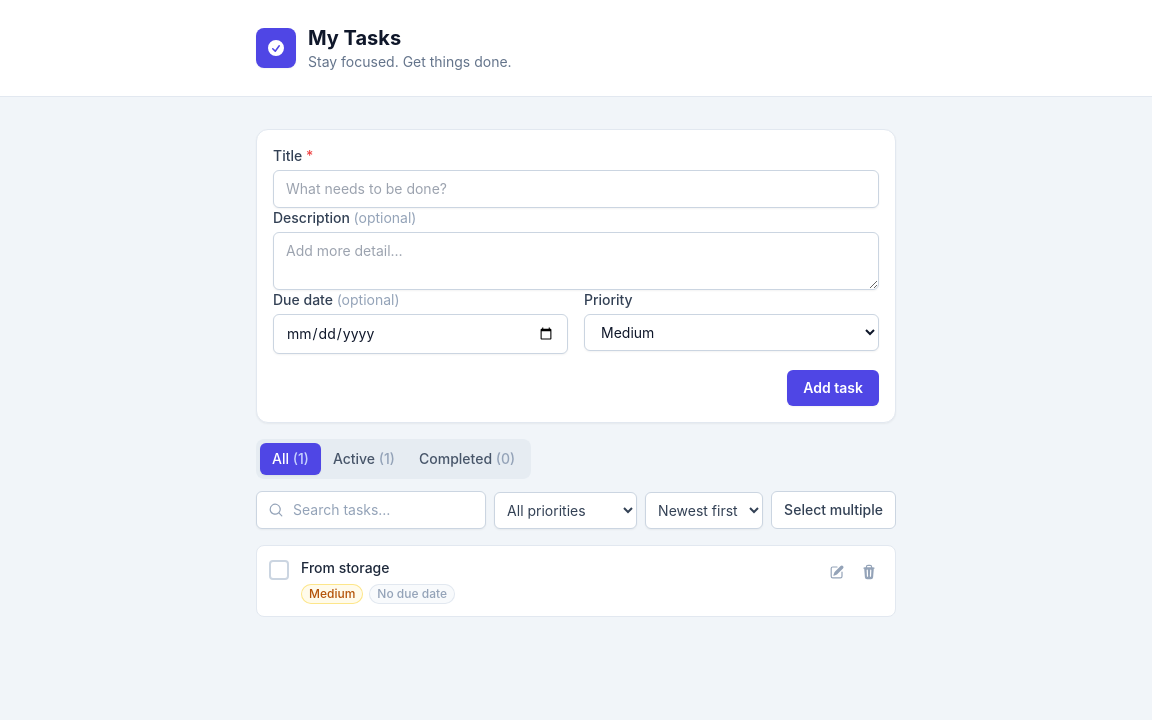
Test case: App › deletes a task only after confirming
Click the button named "Delete From storage". click: (869, 572)
box: [855,558,883,586]
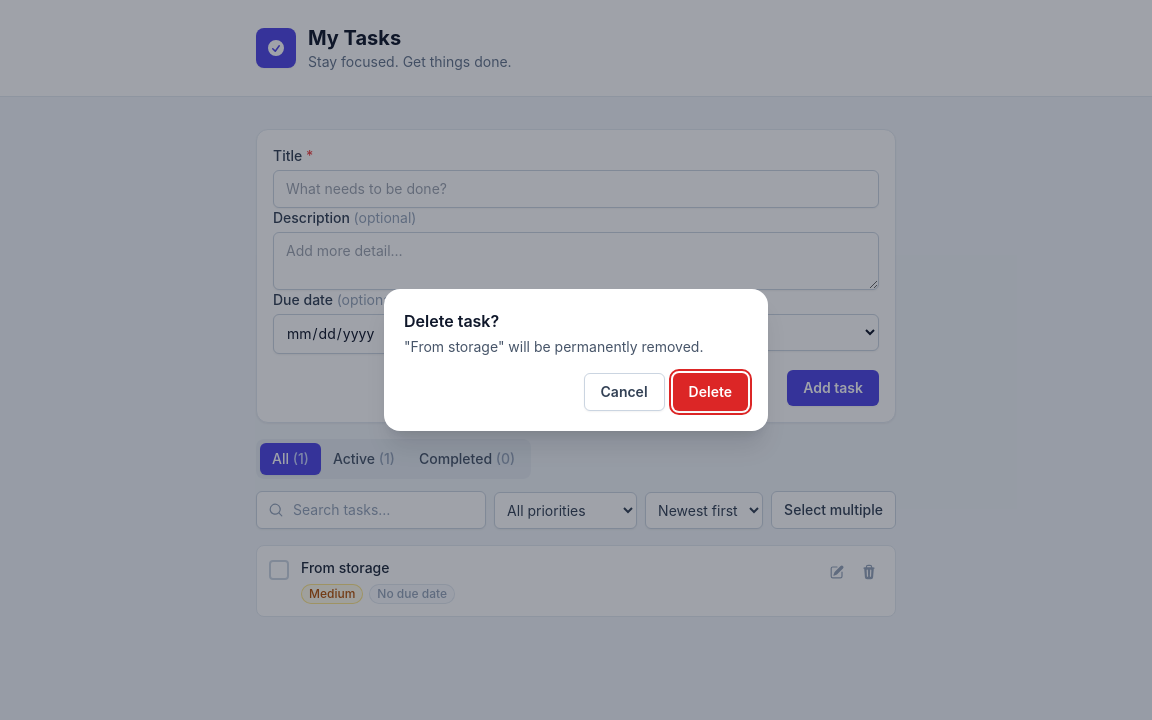
Click the button "Cancel". click: (624, 392)
box: [584,373,664,411]
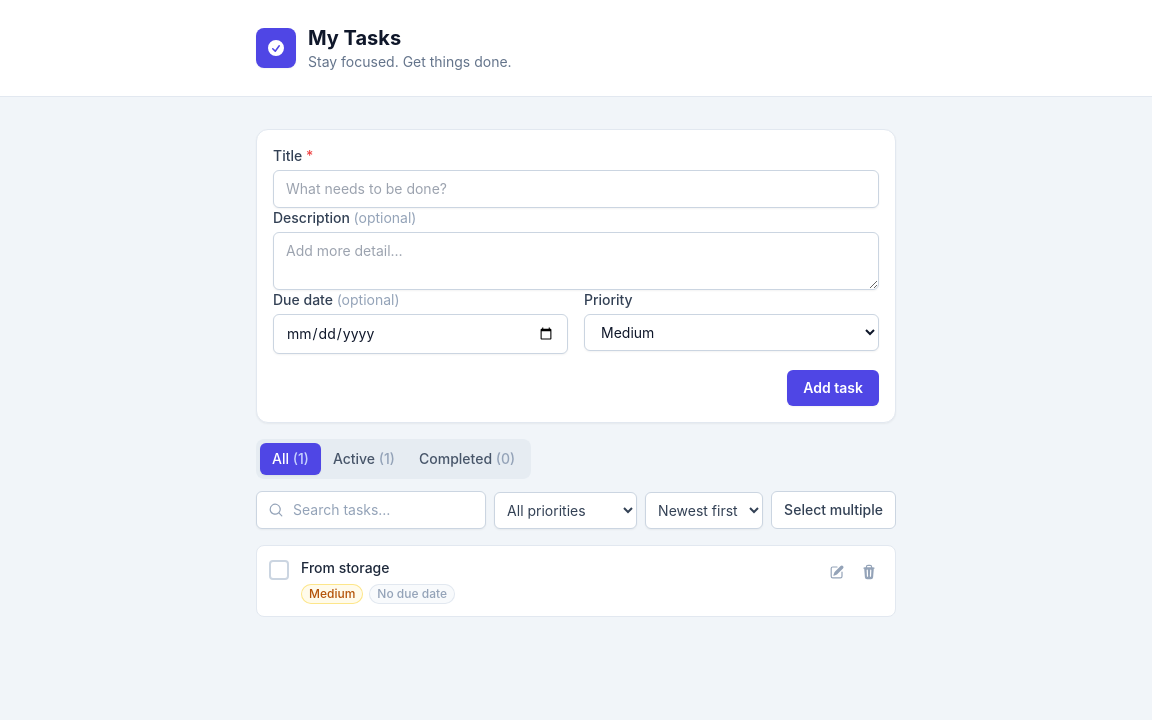
expect the text "From storage" is shown: met, box [301,559,390,576]
Click the button named "Delete From storage". click: (869, 572)
box: [855,558,883,586]
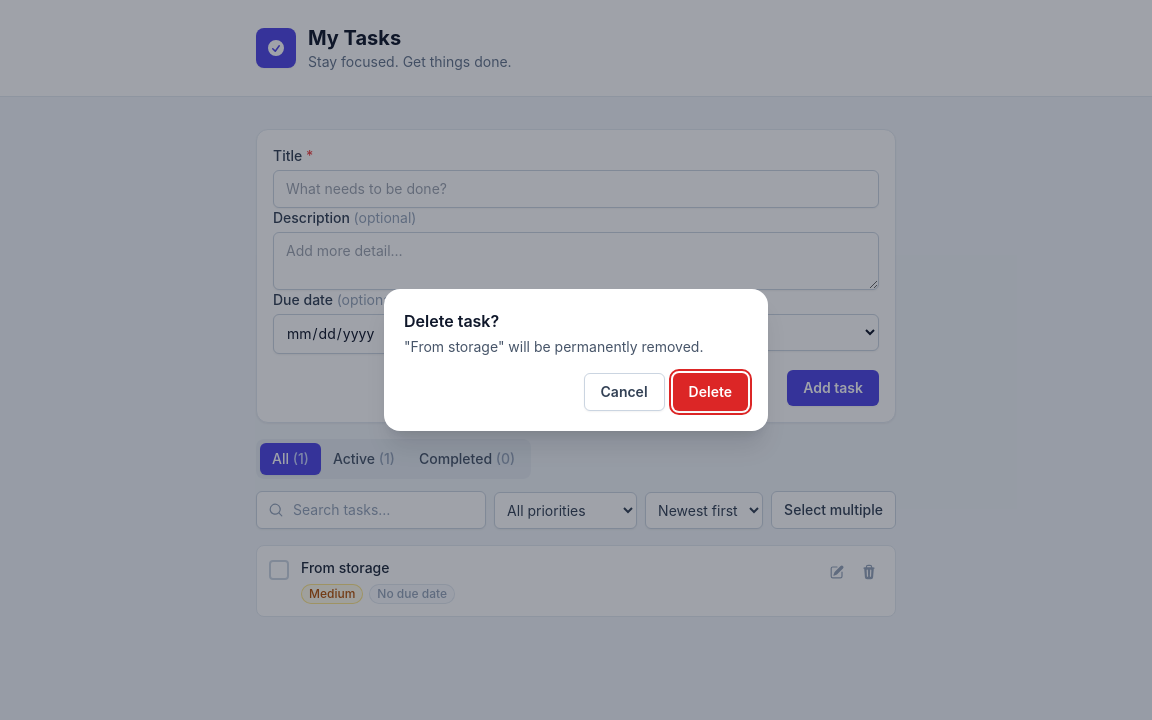
Click the button "Delete". click: (710, 392)
box: [673,373,748,411]
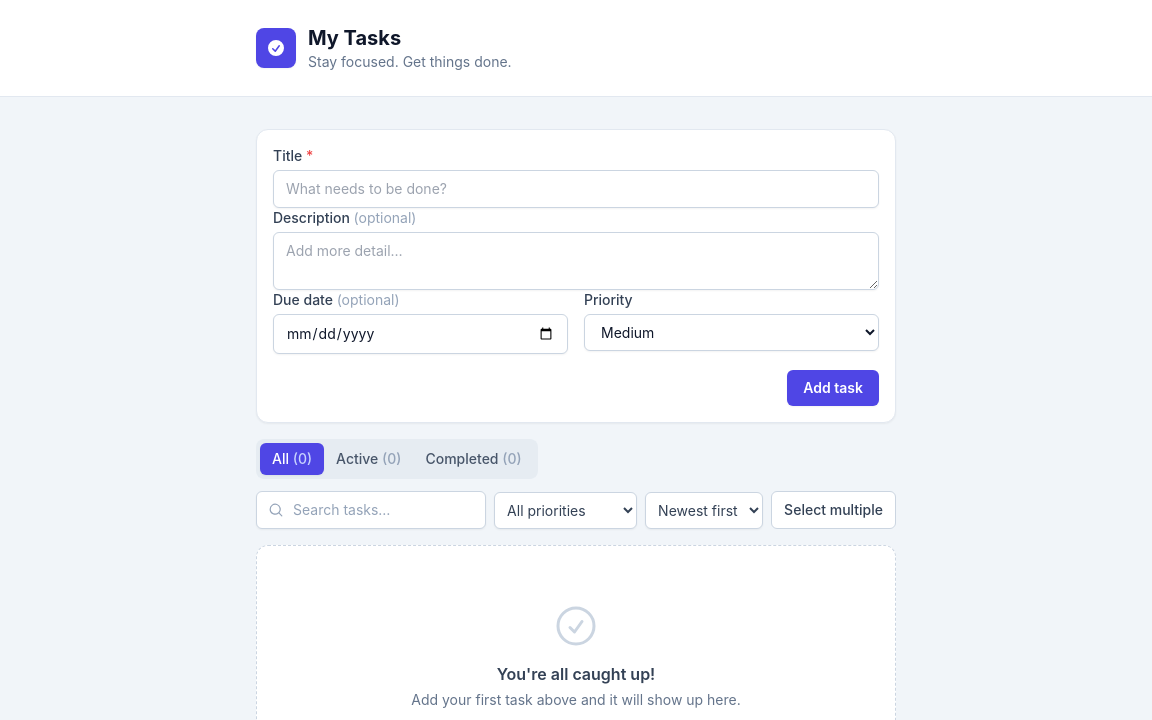
expect the text "From storage" is gone: met
expect the heading "You're all caught up!" is shown: met, box [497,662,655,686]
